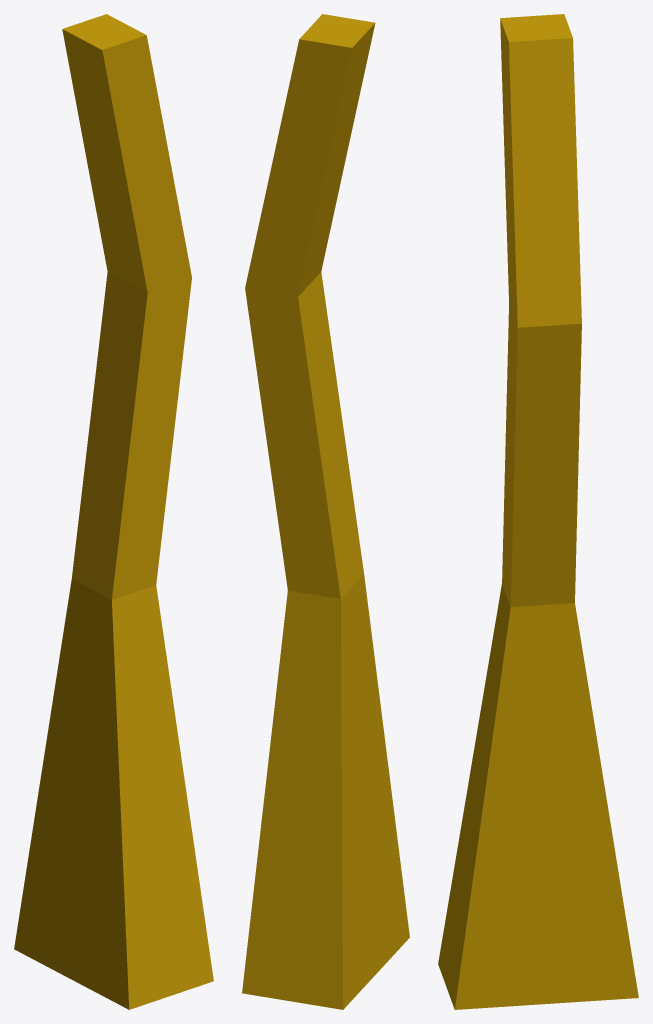
File: g1-yellow.obj
3 views of the same model, side by side, from view 1: azimuth 30°, elevation 25°; view 2: azimuth 150°, elevation 25°; view 3: azimuth 270°, elevation 25° (orthographic).
Visible parts, largest first — view 1: g1-yellow_Cube.010; view 2: g1-yellow_Cube.010; view 3: g1-yellow_Cube.010.
Part boxes in pixels (left/top/right/bottom): g1-yellow_Cube.010: left=14, top=14, right=213, bottom=1009; g1-yellow_Cube.010: left=242, top=14, right=409, bottom=1009; g1-yellow_Cube.010: left=438, top=14, right=638, bottom=1009.
Bounding box in the file's own units: 0.2881 × 2.04 × 0.3915.
